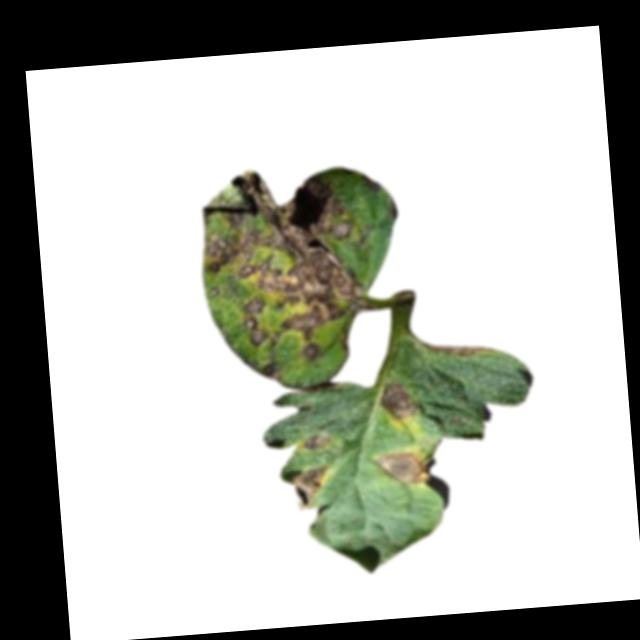Early_blight: (196, 163, 375, 370), (376, 446, 432, 490), (286, 465, 335, 509), (377, 380, 419, 423), (427, 336, 495, 360), (261, 360, 282, 385), (303, 434, 331, 451)
